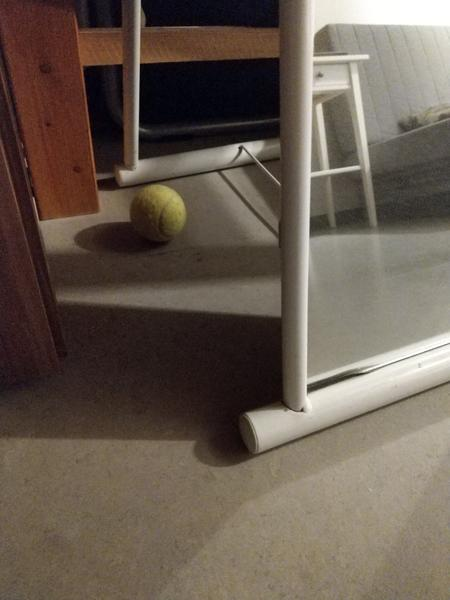Tennisball: (127, 181, 190, 249)
